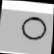no answer: (18, 14, 48, 42)
